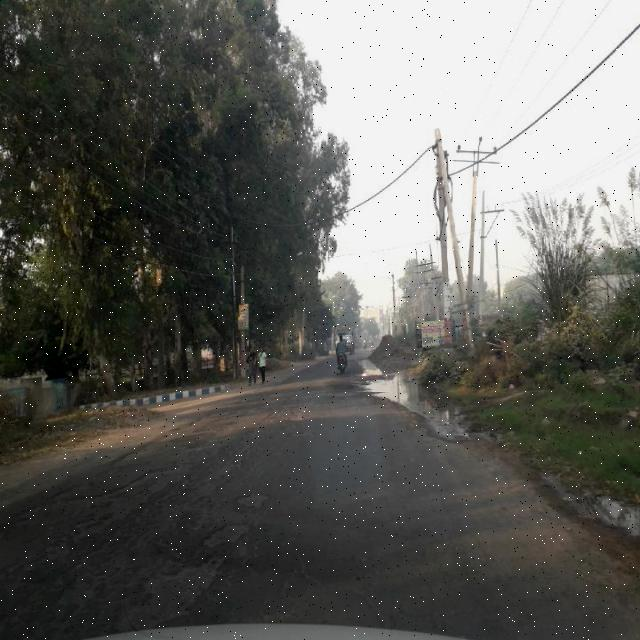D40: (4, 450, 265, 621)
